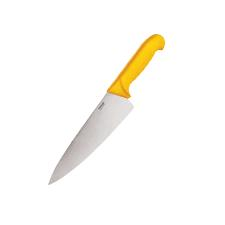Knife: (47, 33, 165, 185)
